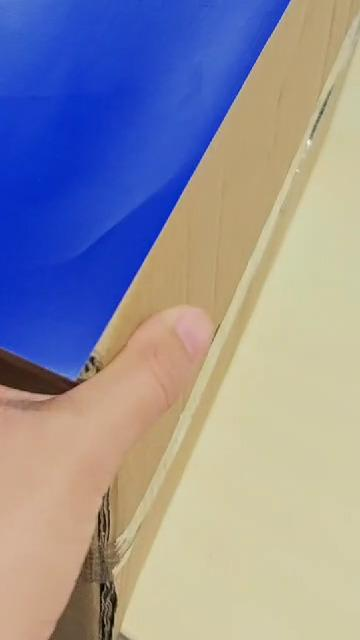B_R1: (0, 0, 174, 127)
